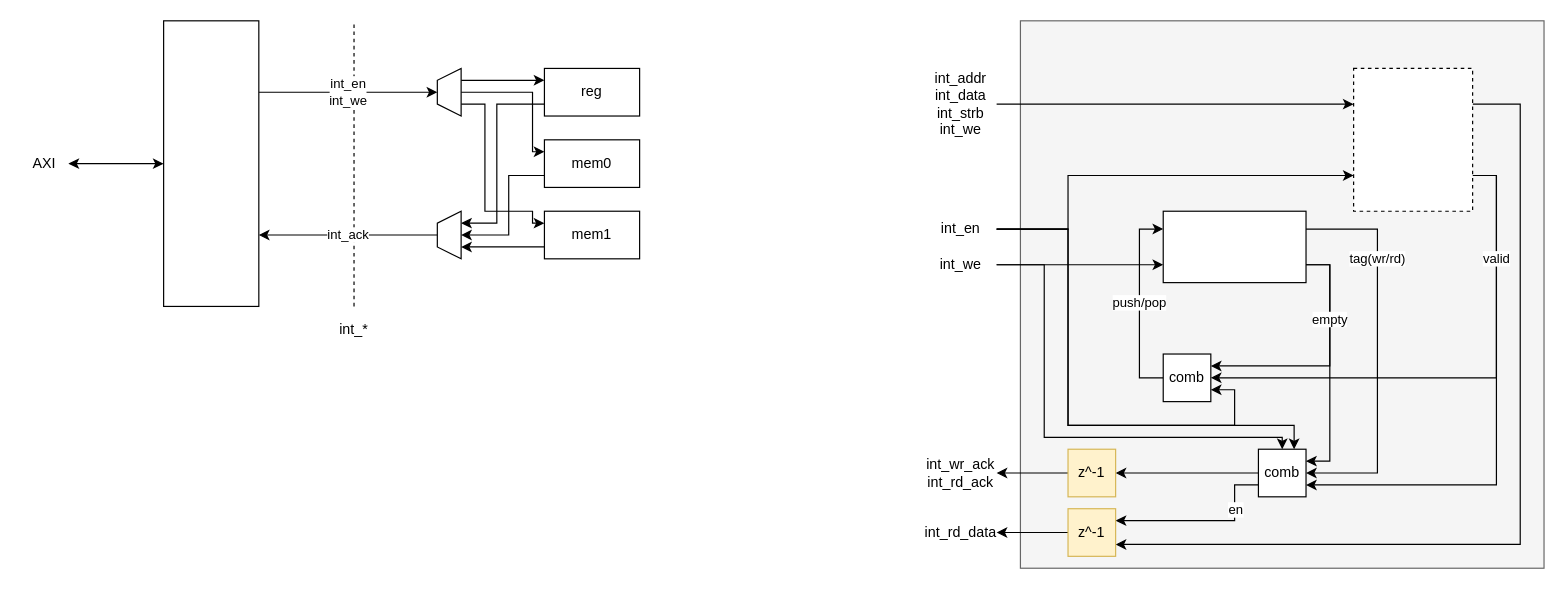
The diagram is 1565 pixels wide and 589 high, and some of its shapes have lost their labels. The shapes that lost their labels are listed below. From the top down, each one's box as (x1, y1, x2, y2) in pixels, then its label:
(1352, 67, 1473, 211): external RAM
(162, 20, 259, 306): aw/w/b/ar/r buffer
(1162, 210, 1306, 283): Tag FIFO (FWFT) latency=1
(1019, 20, 1544, 568): mem
